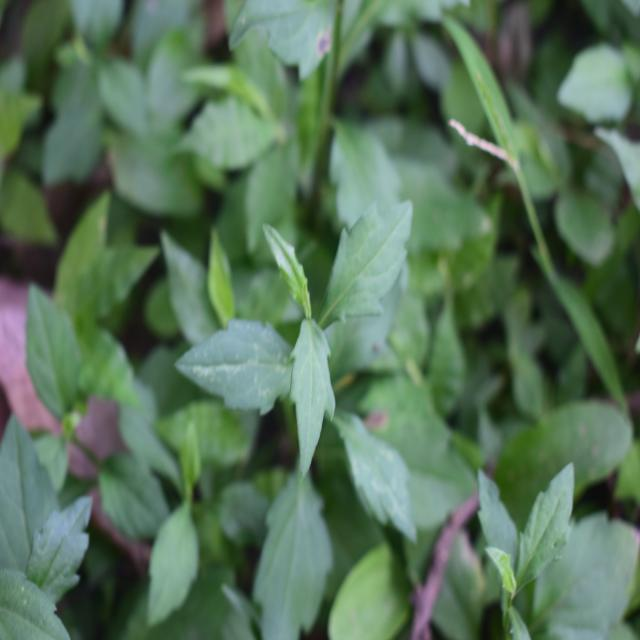Indian aster: (211, 186, 417, 568)
